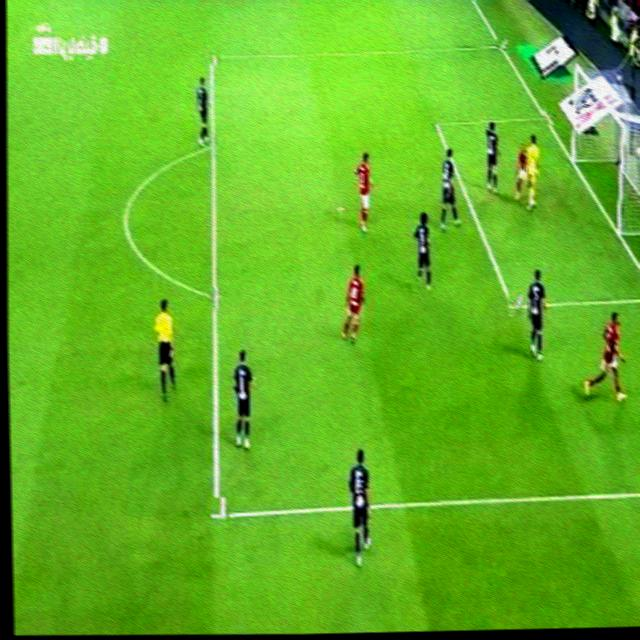bigarea_bottom_inner: (209, 496, 229, 530)
bigarea_top_inner: (205, 47, 220, 64)
bigarea_top_outter: (495, 38, 506, 50)
bottom_arc_area_intersection: (208, 286, 221, 308)
smallarea_bottom_inner: (506, 292, 522, 316)
smallarea_top_inner: (430, 113, 444, 132)
smallarea_top_outter: (540, 106, 556, 124)
top_arc_area_intersection: (209, 135, 218, 151)
